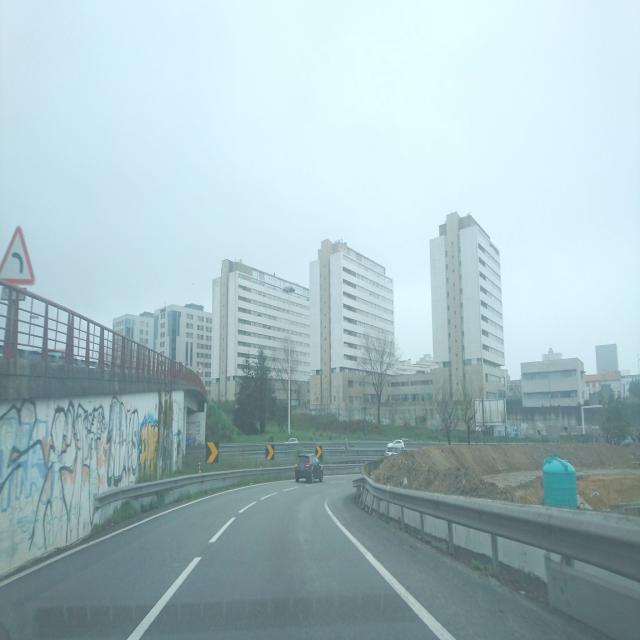car: (295, 452, 324, 483)
